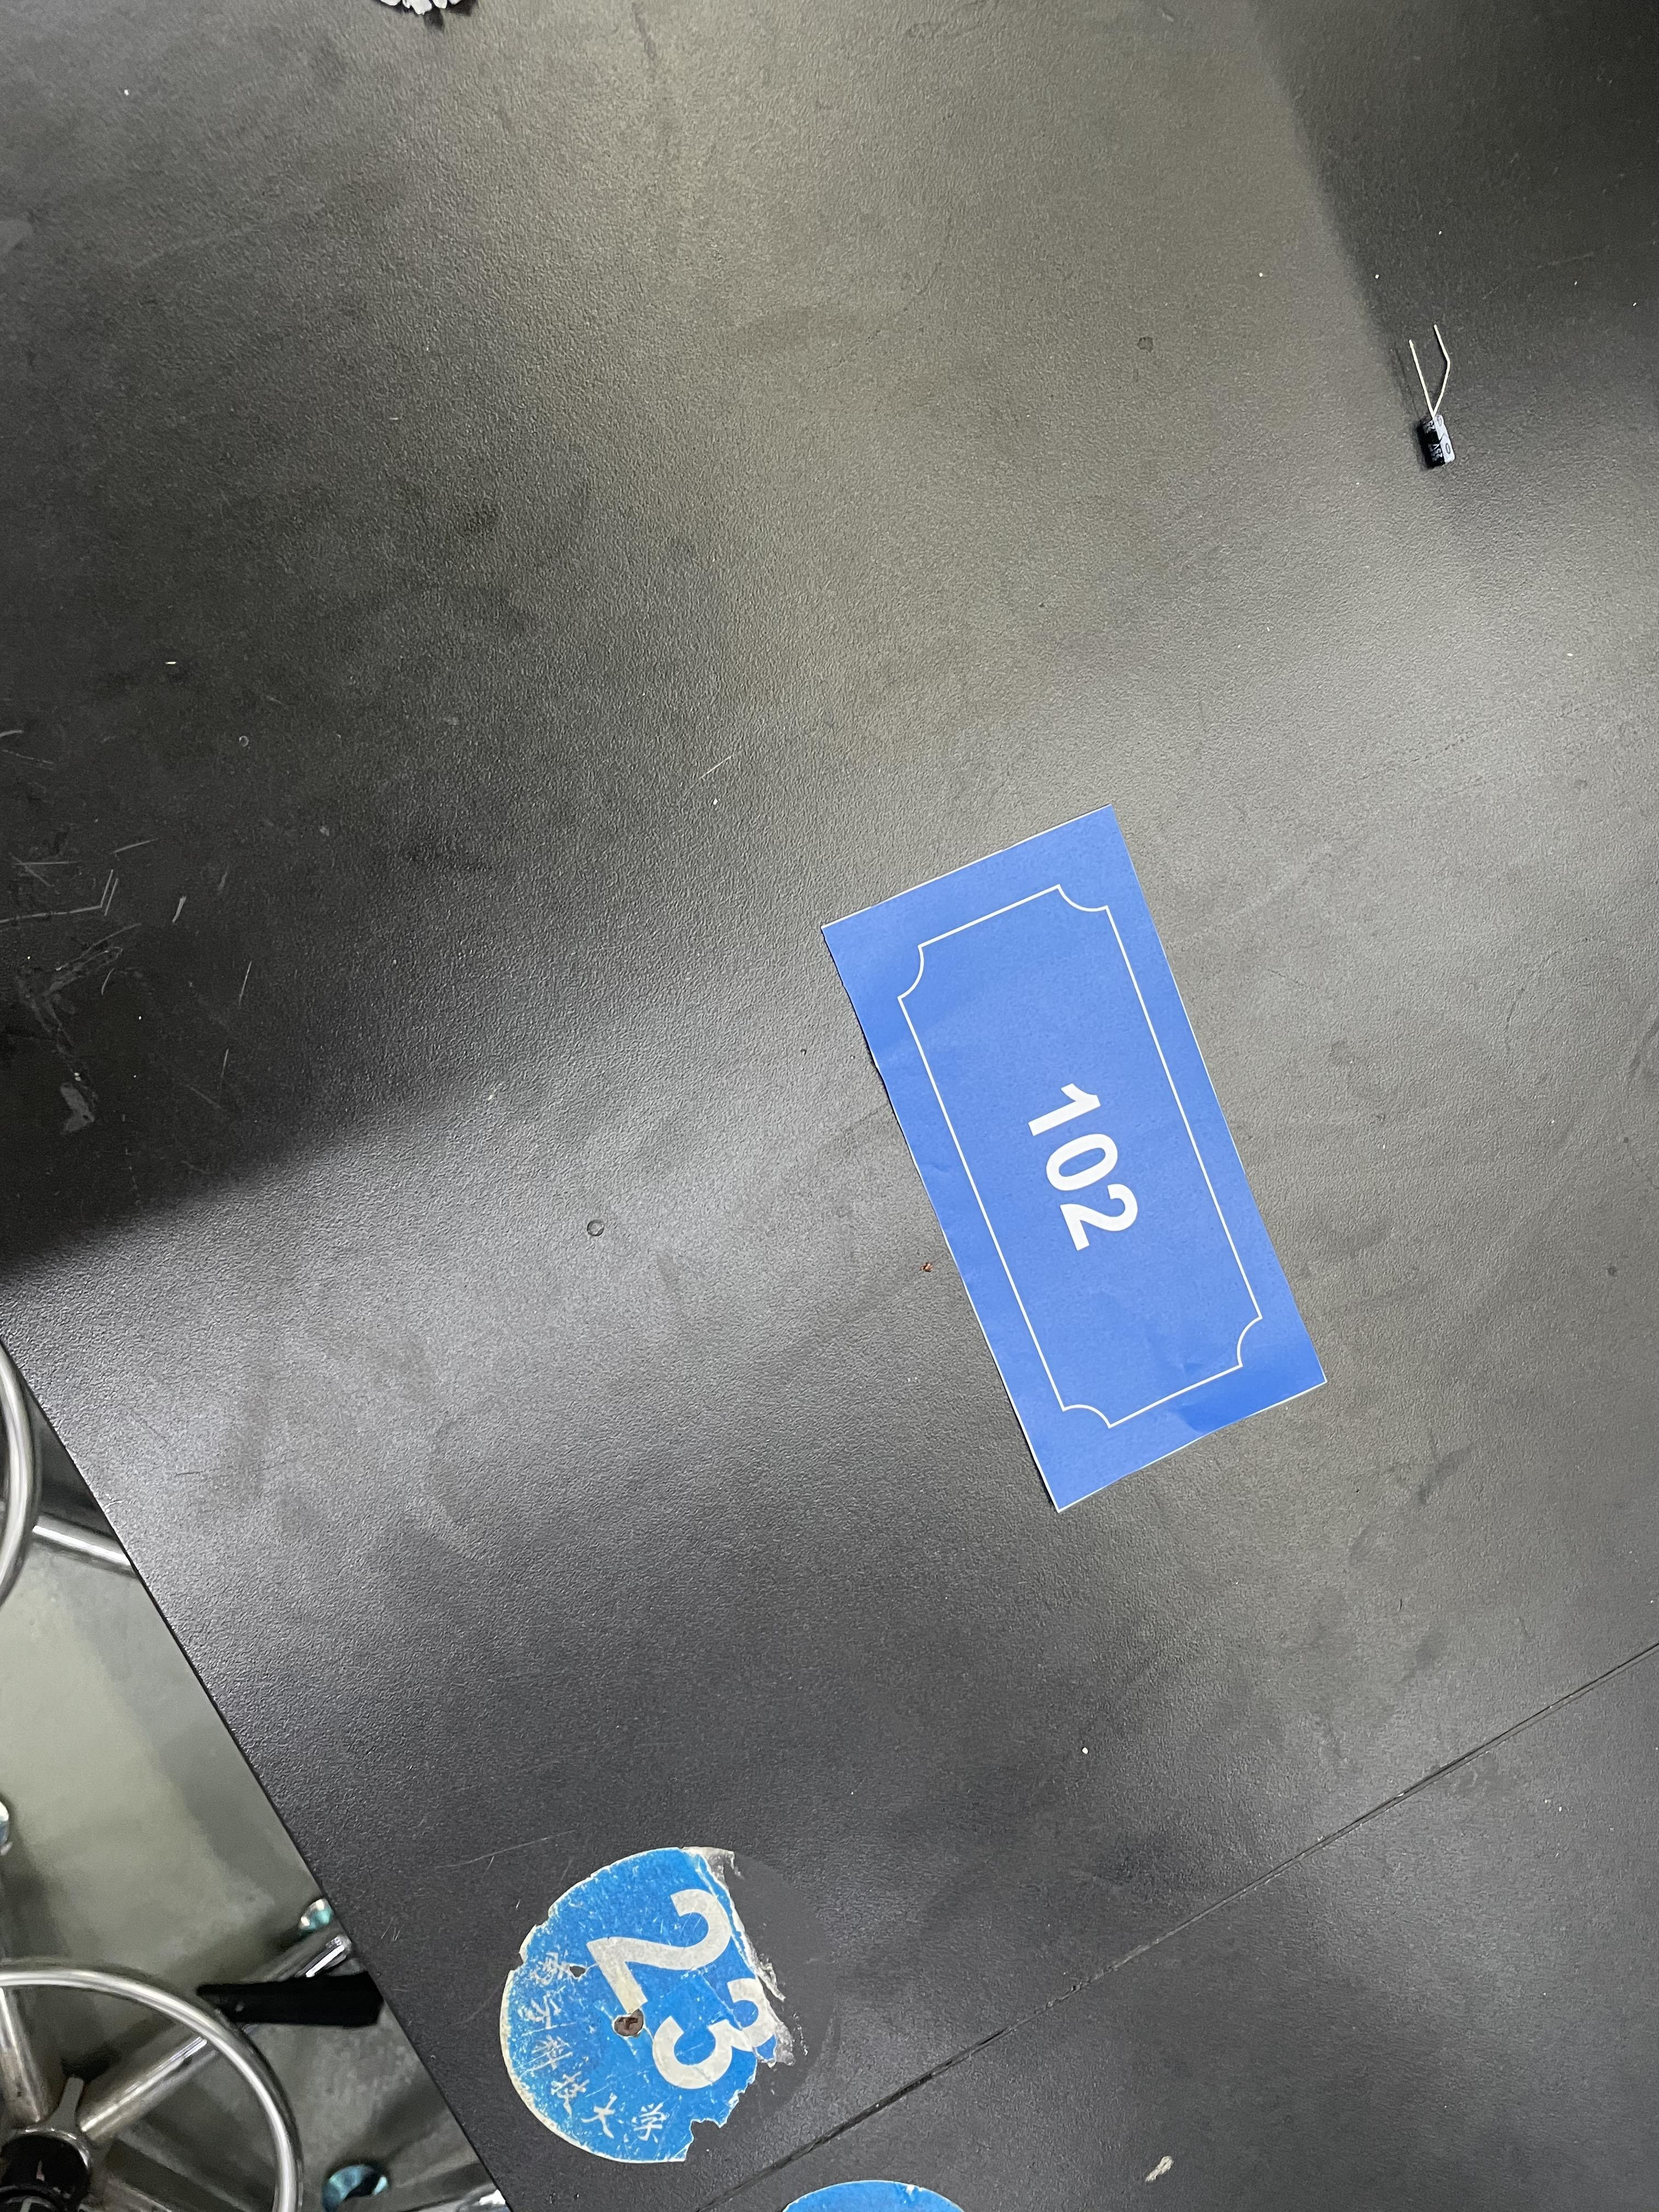Card: (786, 763, 1368, 1583)
